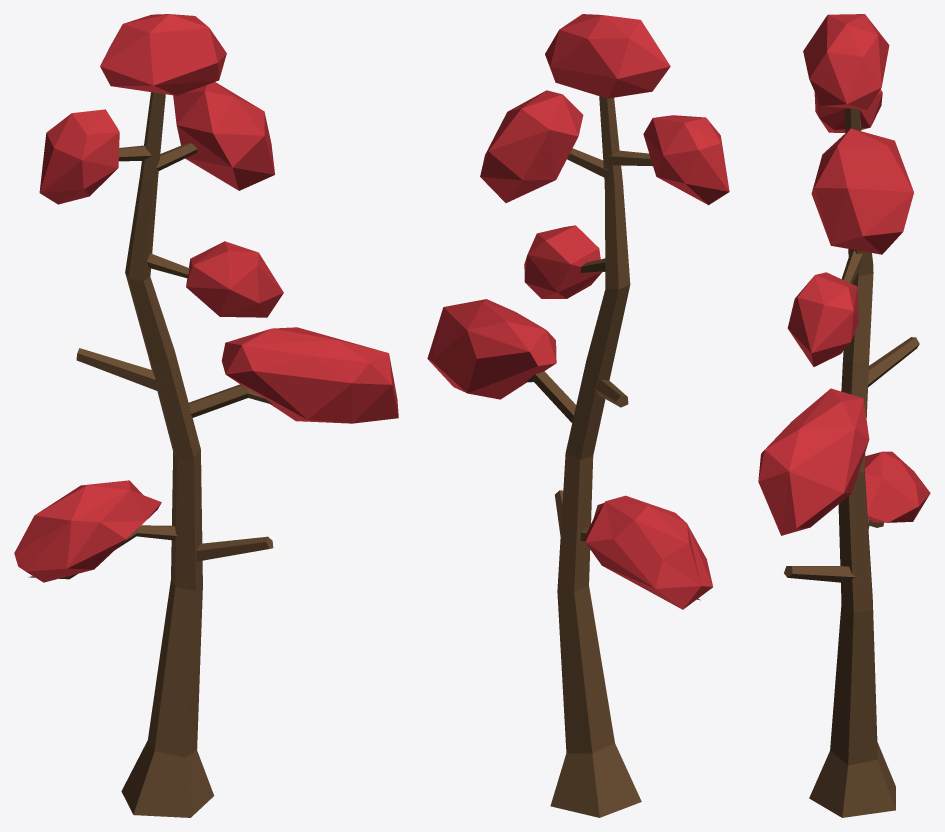
The model's file is japan-tree-tall.glb.
3 views of the same model, side by side, from view 1: azimuth 30°, elevation 25°; view 2: azimuth 150°, elevation 25°; view 3: azimuth 270°, elevation 25° (orthographic). The views are drawn at different scales.
Visible parts, largest first — view 1: japan-tree-tall; view 2: japan-tree-tall; view 3: japan-tree-tall.
Boxes of the visible parts, <box> form: japan-tree-tall: <box>14,14,398,817</box>; japan-tree-tall: <box>427,14,729,817</box>; japan-tree-tall: <box>758,14,930,817</box>.
Bounding box in the file's own units: 4.5 × 10.24 × 2.07.
Materials: 1 (1 with a texture image).
